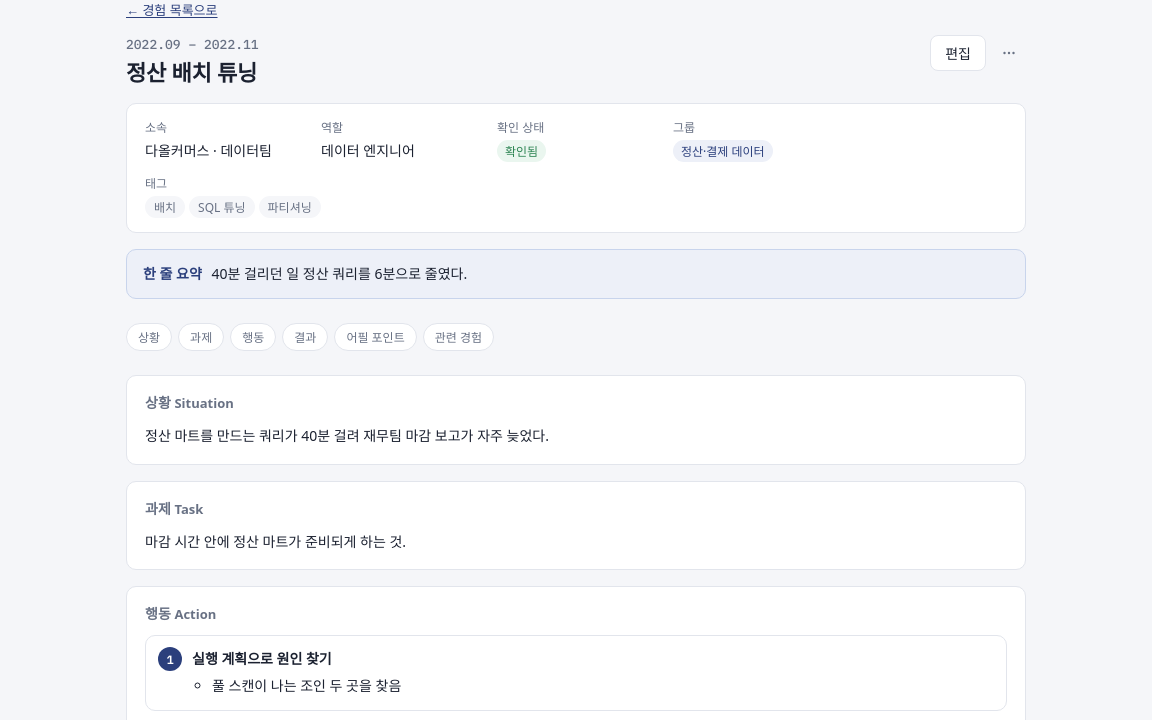
Scenario: ExperienceViewScreen › deletes after confirming
Step 1. Click the button named "경험 메뉴" → click(1009, 53), box [992,36,1026,70]
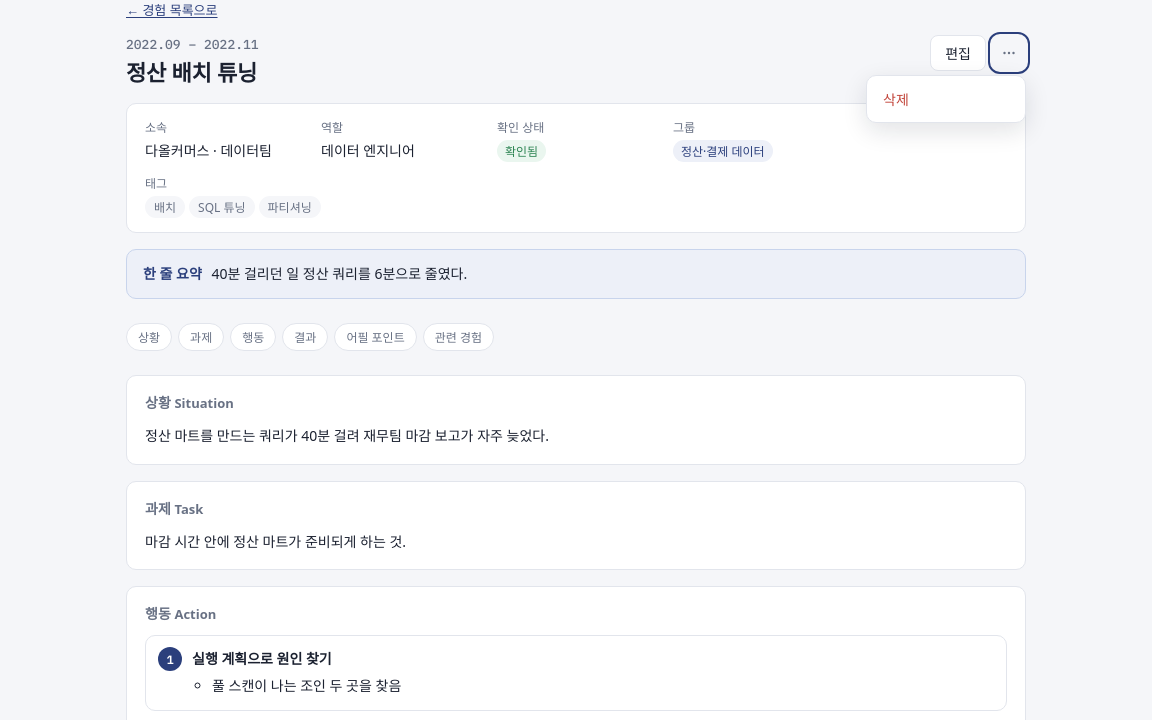
Step 2. Click the menu item "삭제" → click(946, 99), box [871,80,1021,118]
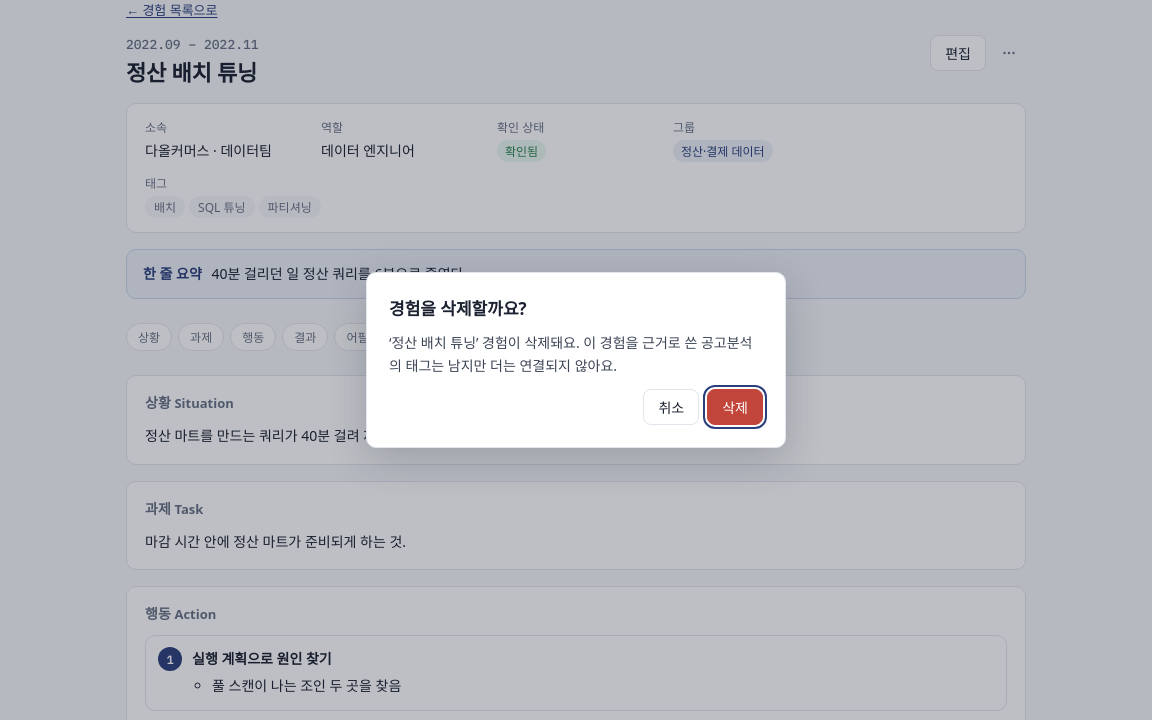
Check: the dialog "경험을 삭제할까요?" shows "‘정산 배치 튜닝’ 경험이 삭제돼요. 이 경험을 근거로 쓴 공고분석의 태그는 남지만 더는 연결되지 않아요.", box [366,272,786,448]
Step 3. Click the button "삭제" → click(735, 407), box [707,389,763,425]
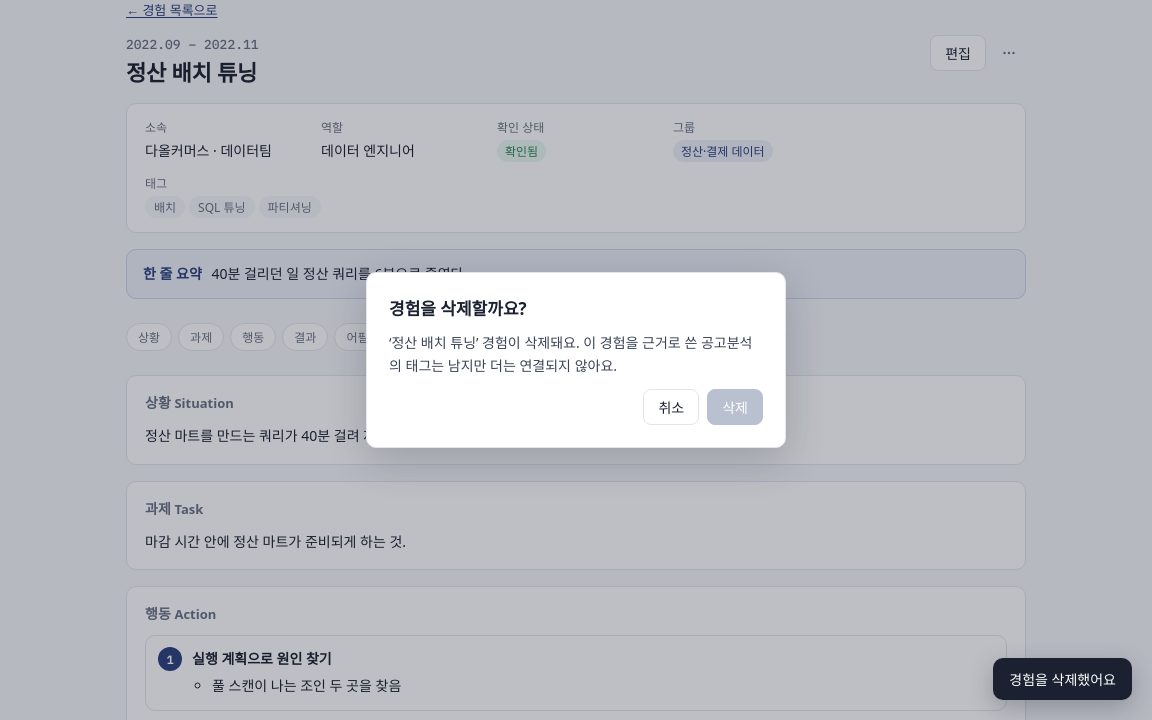
Check: the text "경험을 삭제했어요" is shown, box [993,658,1132,700]
